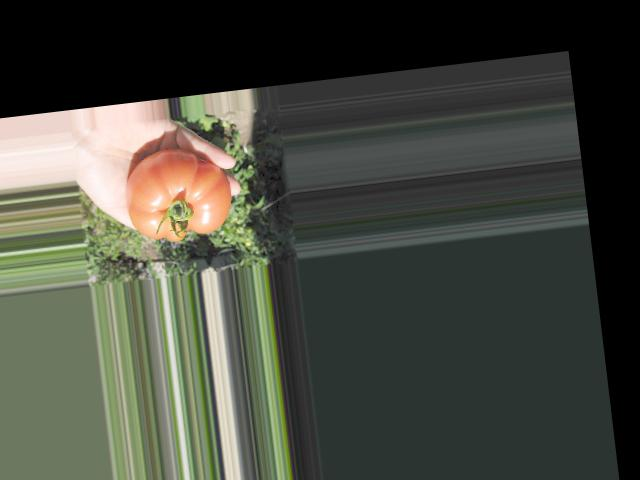tomato: (122, 143, 236, 246)
